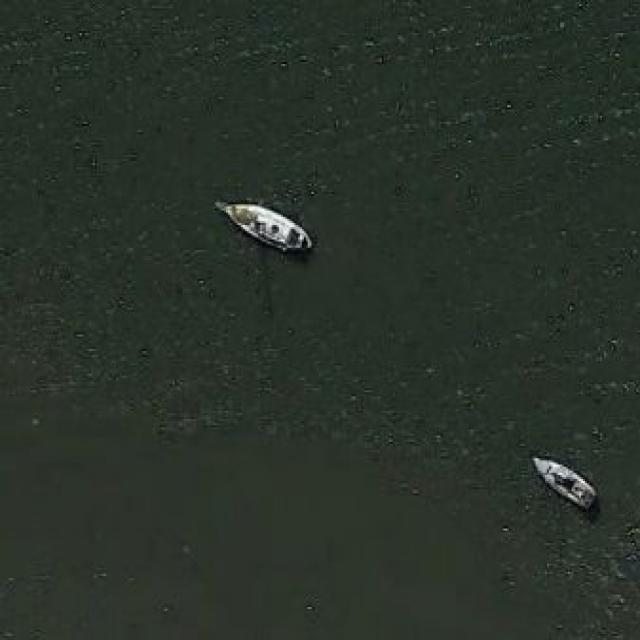ship: (218, 198, 314, 254), (530, 450, 596, 510)
